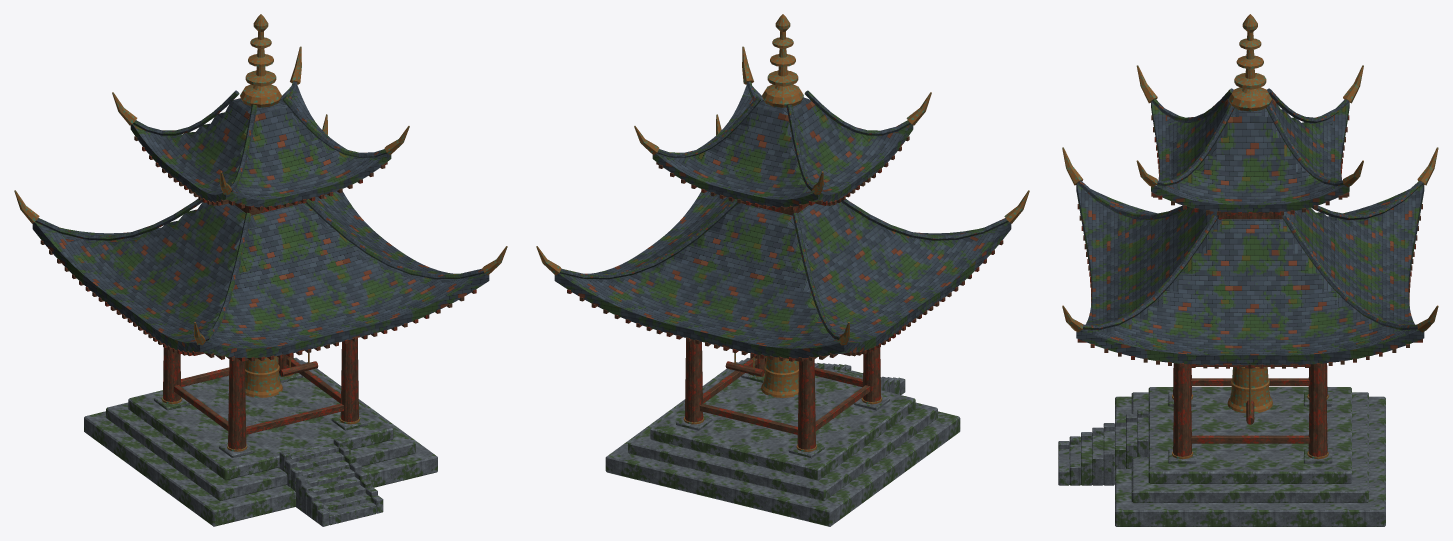
File: Bell_Terrace_Pavilion.glb
The picture shows the model from 3 angles, left to right: view 1: azimuth 30°, elevation 25°; view 2: azimuth 150°, elevation 25°; view 3: azimuth 270°, elevation 25°; orthographic projection. The views are drawn at different scales.
Parts seen in each view (by area): view 1: Bell_Terrace_Pavilion__Roof, Bell_Terrace_Pavilion__Stone, Bell_Terrace_Pavilion__Timber, Bell_Terrace_Pavilion__Bronze; view 2: Bell_Terrace_Pavilion__Roof, Bell_Terrace_Pavilion__Stone, Bell_Terrace_Pavilion__Timber, Bell_Terrace_Pavilion__Bronze; view 3: Bell_Terrace_Pavilion__Roof, Bell_Terrace_Pavilion__Stone, Bell_Terrace_Pavilion__Timber, Bell_Terrace_Pavilion__Bronze.
Boxes of the visible parts, x1=… form: Bell_Terrace_Pavilion__Roof: x1=32, y1=81, x2=489, y2=357; Bell_Terrace_Pavilion__Stone: x1=84, y1=357, x2=437, y2=526; Bell_Terrace_Pavilion__Timber: x1=40, y1=136, x2=476, y2=449; Bell_Terrace_Pavilion__Bronze: x1=14, y1=14, x2=507, y2=451; Bell_Terrace_Pavilion__Roof: x1=554, y1=81, x2=1011, y2=358; Bell_Terrace_Pavilion__Stone: x1=605, y1=358, x2=960, y2=526; Bell_Terrace_Pavilion__Timber: x1=567, y1=136, x2=1003, y2=449; Bell_Terrace_Pavilion__Bronze: x1=536, y1=14, x2=1029, y2=451; Bell_Terrace_Pavilion__Roof: x1=1076, y1=88, x2=1424, y2=365; Bell_Terrace_Pavilion__Stone: x1=1058, y1=387, x2=1385, y2=526; Bell_Terrace_Pavilion__Timber: x1=1077, y1=115, x2=1422, y2=456; Bell_Terrace_Pavilion__Bronze: x1=1062, y1=14, x2=1438, y2=459.
Size of the model in its own units: 66.67 by 89.16 by 67.34.
Materials: 4 (4 with a texture image).
